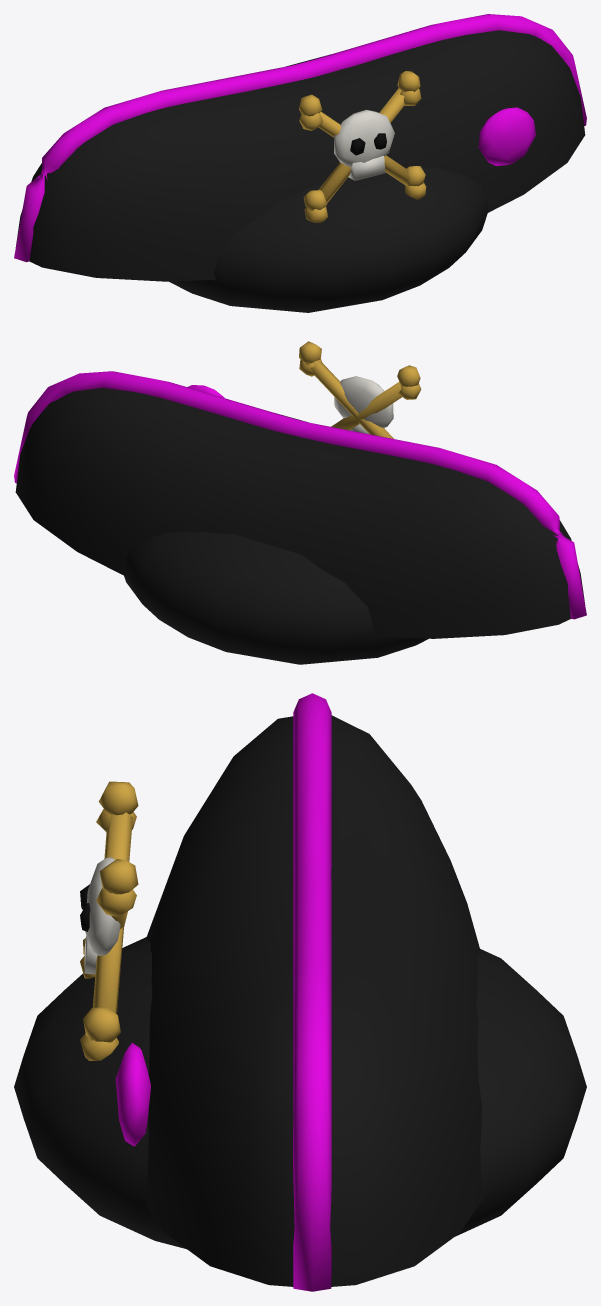
Rendered from hat_bicorne_female_lo.glb.
3 views of the same model, one above another, from view 1: azimuth 30°, elevation 25°; view 2: azimuth 150°, elevation 25°; view 3: azimuth 270°, elevation 25° (orthographic). The views are drawn at different scales.
Parts seen in each view (by area): view 1: hat_bicorne_v5_female; view 2: hat_bicorne_v5_female; view 3: hat_bicorne_v5_female.
Boxes of the visible parts, bbox=[...] form: hat_bicorne_v5_female: bbox=[14, 14, 586, 312]; hat_bicorne_v5_female: bbox=[14, 341, 586, 664]; hat_bicorne_v5_female: bbox=[14, 693, 586, 1291].
Size of the model in its own units: 1.12 by 0.4435 by 0.5925.
